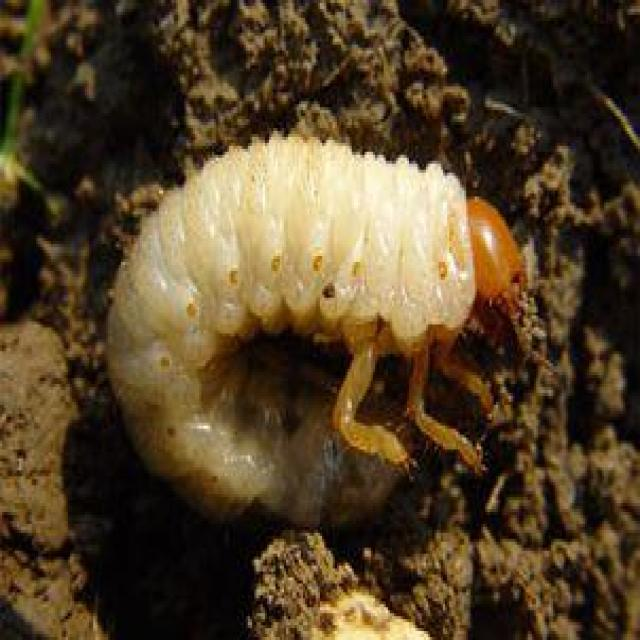Grub-Adult-: (88, 131, 539, 563)
